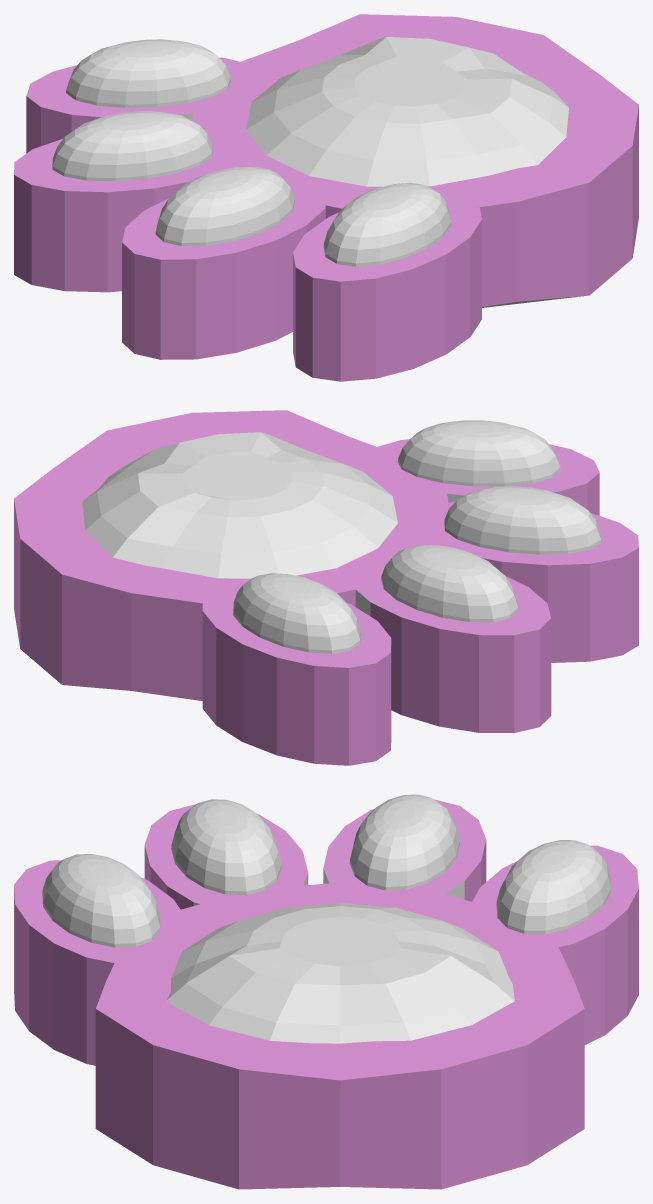
Rendered from catfootfrint.fbx.
3 renders of one model, top to bottom at view 1: azimuth 30°, elevation 25°; view 2: azimuth 150°, elevation 25°; view 3: azimuth 270°, elevation 25°, orthographic. The views are drawn at different scales.
Parts seen in each view (by area): view 1: Cylinder.004; view 2: Cylinder.004; view 3: Cylinder.004.
Part boxes in pixels (x1,y1,x2,y2): Cylinder.004: (14, 14, 638, 381); Cylinder.004: (14, 410, 638, 765); Cylinder.004: (14, 794, 638, 1189).
Size of the model in its own units: 504 by 129 by 473.
